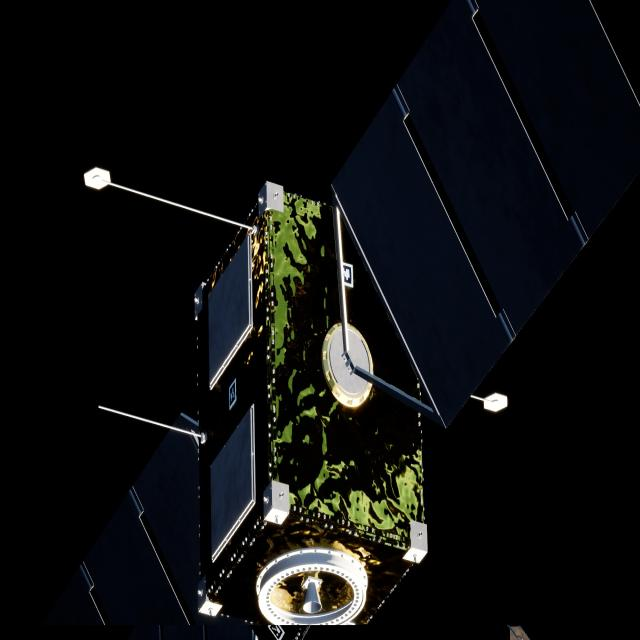medium_debris: (41, 0, 640, 640)
